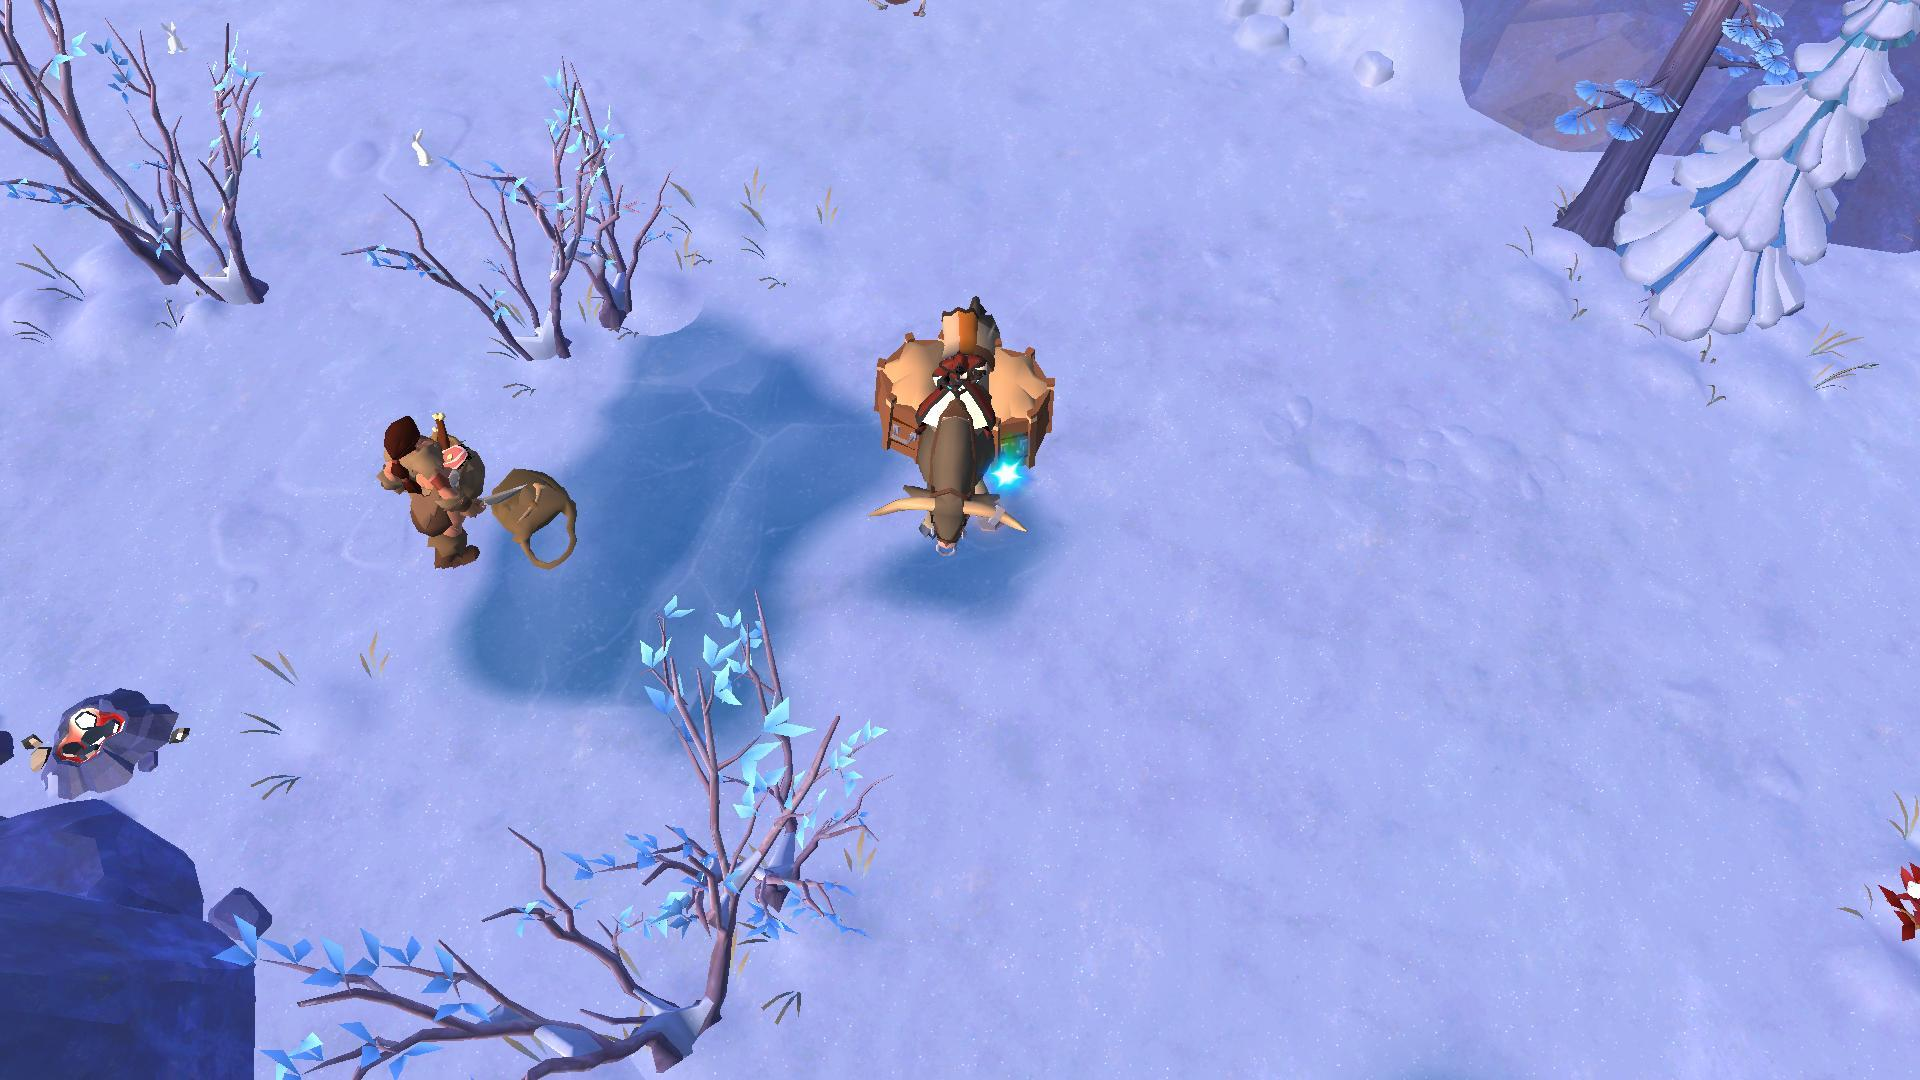enemy_factionKeeper: (377, 411, 487, 575)
